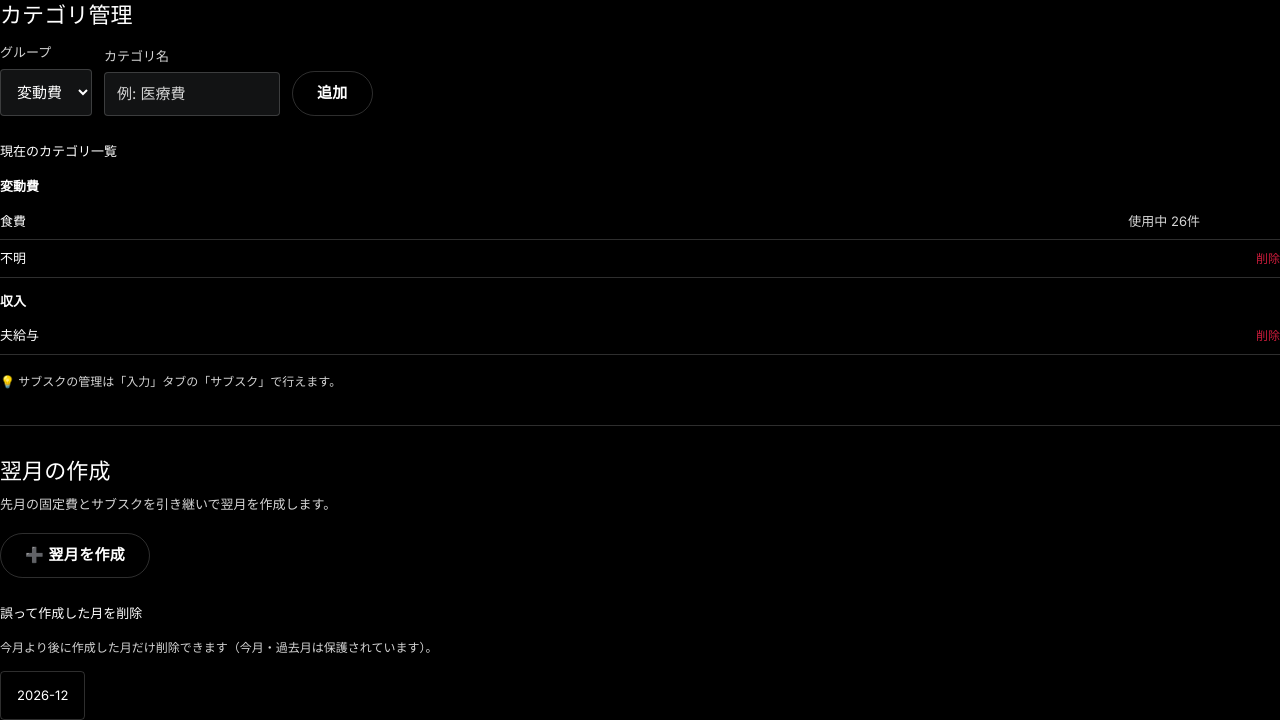
Test: SettingsTab - 月削除 › 月名を打ち込むまで削除ボタンが無効
(page scrolled)
Click the button "2026-12": (43, 695) [0, 670, 85, 719]
(page scrolled)
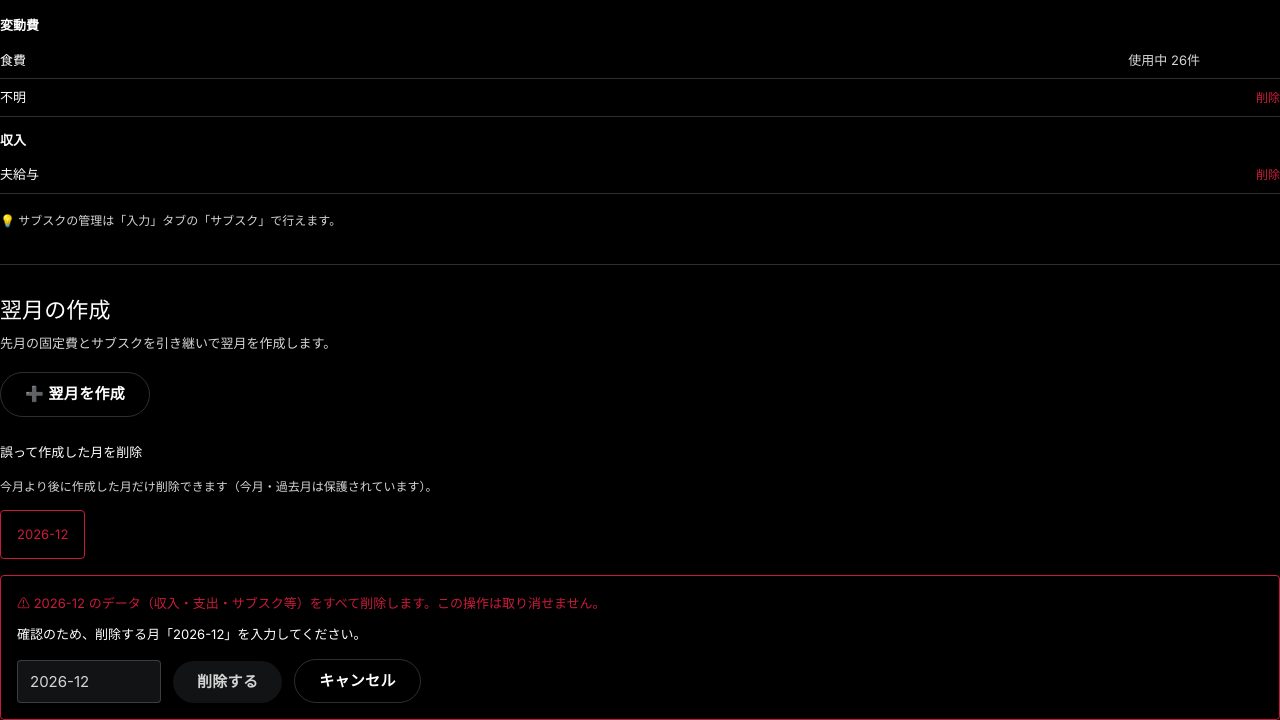
Now the button "削除する" is disabled, box [173, 661, 282, 704]
